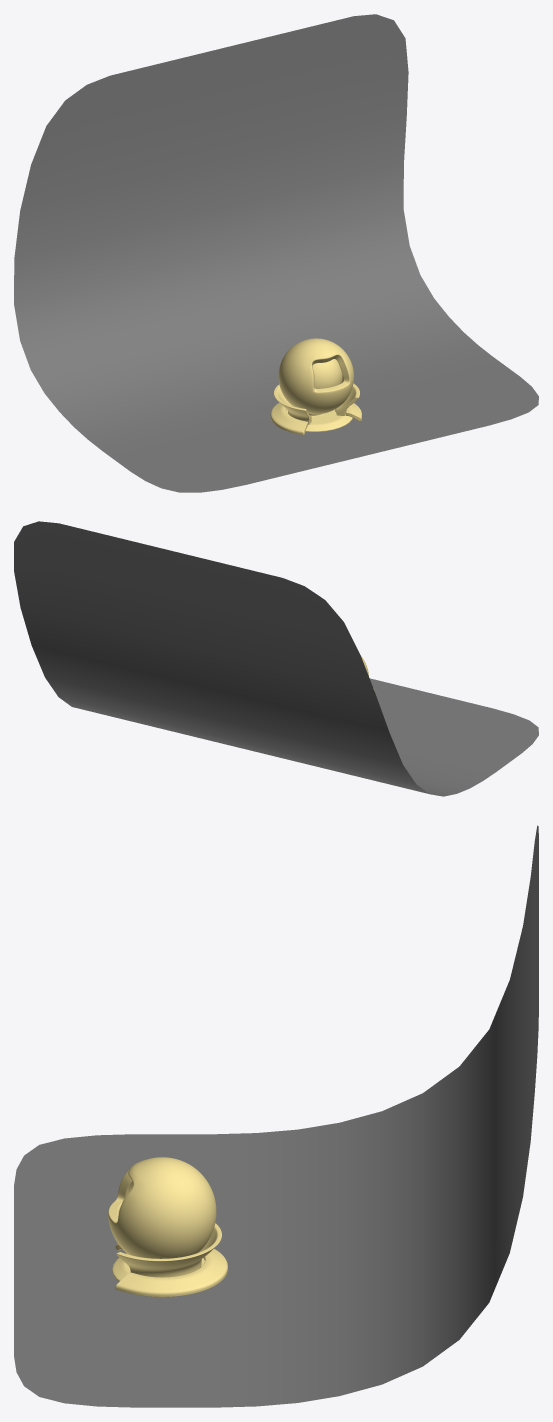
The picture shows the model from 3 angles, top to bottom: view 1: azimuth 30°, elevation 25°; view 2: azimuth 150°, elevation 25°; view 3: azimuth 270°, elevation 25°; orthographic projection. The views are drawn at different scales.
Visible parts, largest first — view 1: mitsuba; view 2: mitsuba; view 3: mitsuba.
Part boxes in pixels (x1=…): mitsuba: x1=14, y1=14, x2=538, y2=492; mitsuba: x1=14, y1=521, x2=538, y2=796; mitsuba: x1=14, y1=825, x2=538, y2=1407.
Size of the model in its own units: 12.79 by 7.77 by 9.73.
